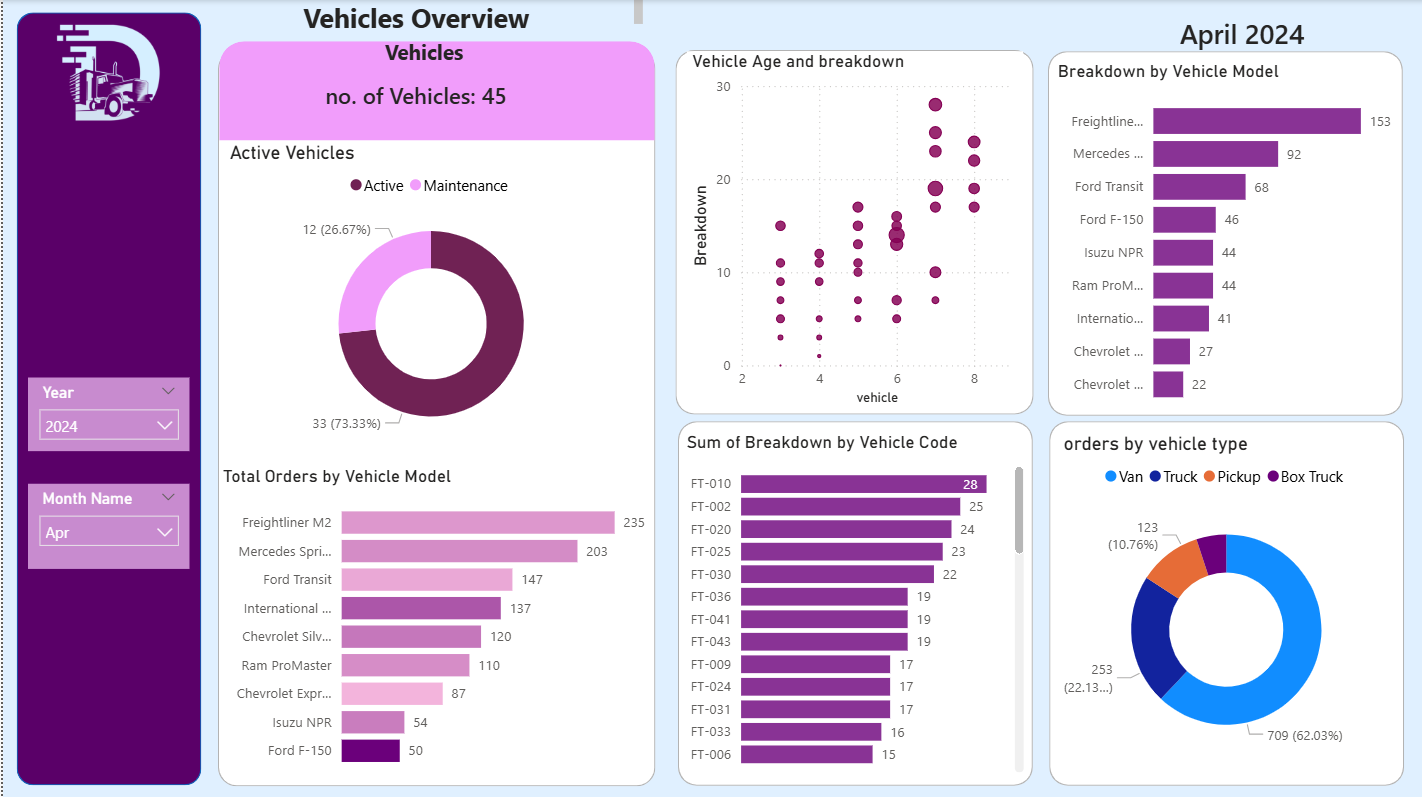

This screenshot's page, from the dashboard's own definition file:
{"tool":"powerbi","page":{"name":"Vehicle Overview","canvas":[1280,720],"ordinal":3},"visuals":[{"type":"shape","box":[943.7,379.8,319.9,328.7],"z":0},{"type":"shape","box":[12.8,11.4,166.4,696.9],"z":1000},{"type":"textbox","box":[177.5,0,399.6,33.2],"z":2000},{"type":"slicer","fields":{"Values":["Date Table.Year"]},"box":[23.1,340.6,145.7,66.4],"z":3000},{"type":"slicer","fields":{"Values":["Date Table.Month Name"]},"box":[23.1,435.8,145.7,76.5],"z":4000},{"type":"image","box":[0,12.2,192,113.7],"z":5000},{"type":"cardVisual","fields":{"Data":["Date Table.Selected Month-Year"]},"box":[986.5,0,262.7,58],"z":6000},{"type":"shape","box":[606.3,45.3,322.9,328.7],"z":7000},{"type":"shape","box":[194.3,44.6,394.4,663.9],"z":7001,"group":"g1"},{"type":"shape","box":[195,36.9,392.7,89.6],"z":7002,"group":"g1"},{"type":"cardVisual","fields":{"Data":["Vehicles.No. of Vehicles"]},"box":[261.8,46.8,266.8,74.5],"z":7003,"group":"g1"},{"type":"textbox","box":[273.5,33.6,213.7,42.8],"z":7004,"group":"g1"},{"type":"donutChart","title":"Active Vehicles","fields":{"Category":["Vehicles.Vehicle Status"],"Y":["CountNonNull(Vehicles.Vehicle ID)"]},"box":[199.8,127.7,373.3,280.5],"z":7005,"group":"g1"},{"type":"barChart","fields":{"Category":["Vehicles.Vehicle Model"],"Y":["Orders.Total Orders"]},"box":[198.2,419.9,384.2,277.6],"z":7006,"group":"g1"},{"type":"donutChart","title":"orders by vehicle type","fields":{"Category":["Orders.Vehicle Type"],"Y":["Orders.Total Orders"]},"box":[951,390.1,303.9,306.8],"z":8000},{"type":"group","id":"g1","title":"Group 1","box":[194.3,33.6,394.4,674.9],"z":9000},{"type":"shape","box":[942.3,46.7,319.9,328.7],"z":10000},{"type":"scatterChart","title":" Vehicle Age and breakdown ","fields":{"X":["Vehicles.Vehicle Age (Years)"],"Y":["Vehicles.Breakdown"],"Size":["Sum(Vehicles.Breakdown)"]},"box":[616.3,46.5,303.3,324.1],"z":11000},{"type":"shape","box":[609.2,379.8,319.9,328.7],"z":12000},{"type":"barChart","fields":{"Category":["Vehicles.Vehicle Code"],"Y":["Sum(Vehicles.Breakdown)"]},"box":[616.5,390.1,303.9,306.8],"z":13000},{"type":"barChart","title":" Breakdown by Vehicle Model","fields":{"Y":["Sum(Vehicles.Breakdown)"],"Category":["Vehicles.Vehicle Model"]},"box":[951,55.5,303.9,315.5],"z":14000}]}

Visuals, with their boxes in screenshot pixels (x1, y1, x2, y2), scaled from the page's 1280x720 canvas onto the 1422x797 screenshot:
shape: x1=1048 y1=420 x2=1404 y2=784
shape: x1=14 y1=13 x2=199 y2=784
textbox: x1=197 y1=0 x2=641 y2=37
slicer - Date Table.Year: x1=26 y1=377 x2=188 y2=451
slicer - Date Table.Month Name: x1=26 y1=482 x2=188 y2=567
image: x1=0 y1=14 x2=213 y2=139
cardVisual - Date Table.Selected Month-Year: x1=1096 y1=0 x2=1388 y2=64
shape: x1=674 y1=50 x2=1032 y2=414
shape: x1=216 y1=49 x2=654 y2=784
shape: x1=217 y1=41 x2=653 y2=140
cardVisual - Vehicles.No. of Vehicles: x1=291 y1=52 x2=587 y2=134
textbox: x1=304 y1=37 x2=541 y2=85
"Active Vehicles" donutChart: x1=222 y1=141 x2=637 y2=452
barChart - Vehicles.Vehicle Model x Orders.Total Orders: x1=220 y1=465 x2=647 y2=772
"orders by vehicle type" donutChart: x1=1057 y1=432 x2=1394 y2=771
"Group 1" group: x1=216 y1=37 x2=654 y2=784
shape: x1=1047 y1=52 x2=1402 y2=416
" Vehicle Age and breakdown " scatterChart: x1=685 y1=51 x2=1022 y2=410
shape: x1=677 y1=420 x2=1032 y2=784
barChart - Vehicles.Vehicle Code x Sum(Vehicles.Breakdown): x1=685 y1=432 x2=1023 y2=771
" Breakdown by Vehicle Model" barChart: x1=1057 y1=61 x2=1394 y2=411
